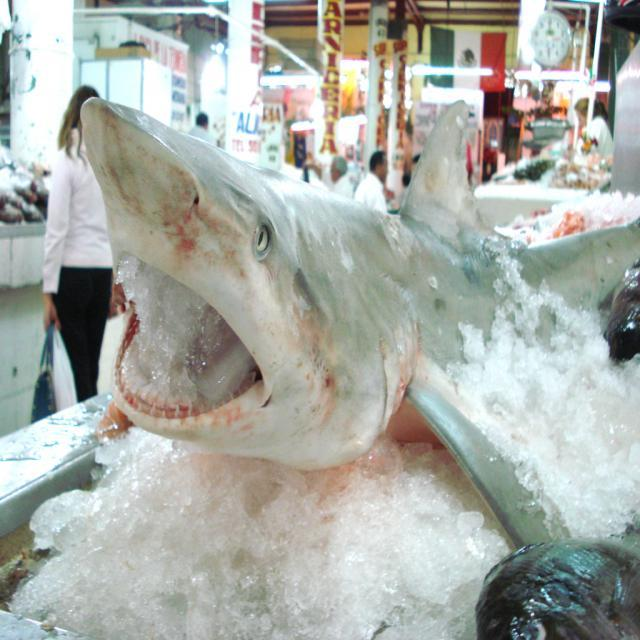Shark: (78, 106, 640, 555)
